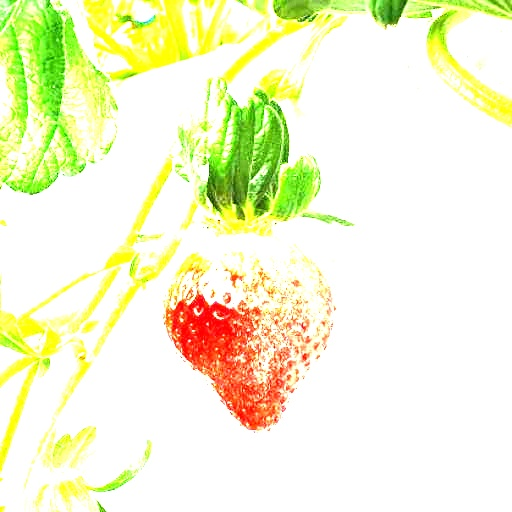Powdery Mildew Fruit: (234, 234, 339, 408)
